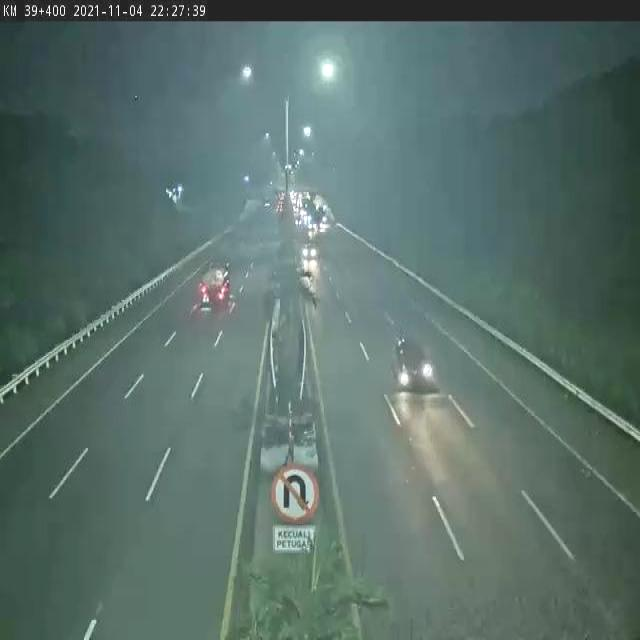Car: (383, 339, 446, 402)
Truck: (187, 251, 247, 323)
